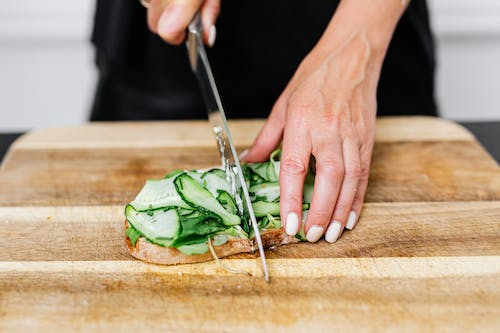knife: (185, 18, 270, 284)
